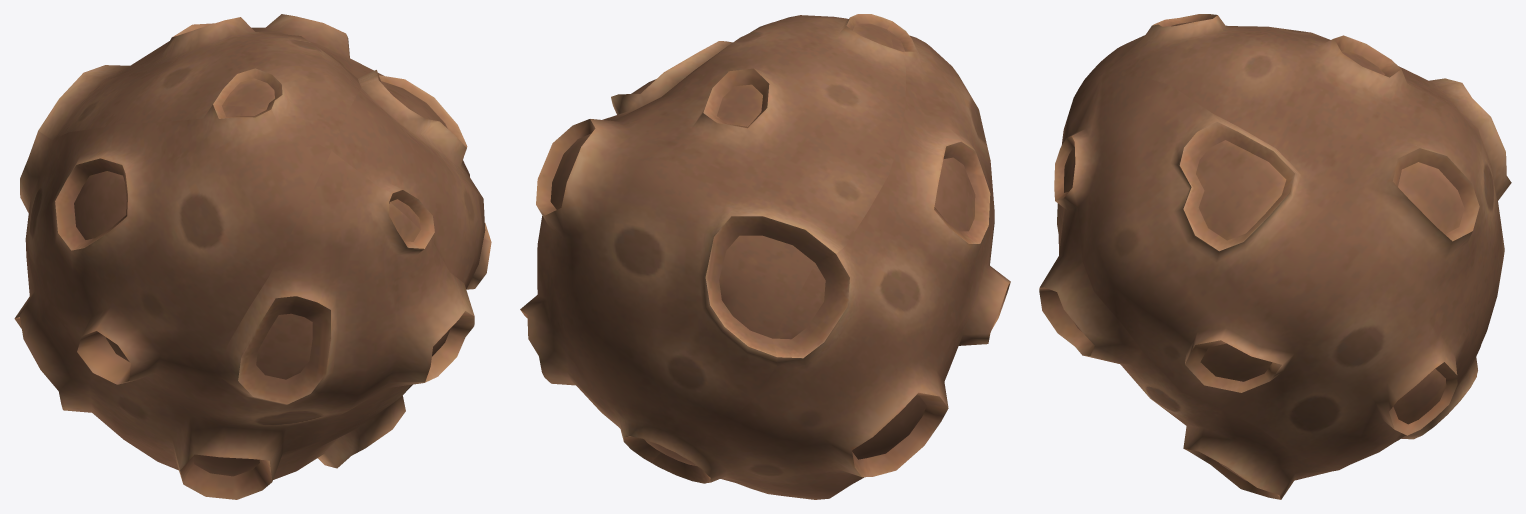
The model's file is Space_Meteor.fbx.
3 renders of one model, left to right at view 1: azimuth 30°, elevation 25°; view 2: azimuth 150°, elevation 25°; view 3: azimuth 270°, elevation 25°, orthographic. The views are drawn at different scales.
Visible parts, largest first — view 1: Space_Meteor; view 2: Space_Meteor; view 3: Space_Meteor.
Part boxes in pixels (left/top/right/bottom): Space_Meteor: left=14, top=14, right=491, bottom=499; Space_Meteor: left=520, top=14, right=1010, bottom=499; Space_Meteor: left=1039, top=14, right=1511, bottom=499.
Bounding box in the file's own units: 1.53 × 1.61 × 1.59.
1 material, 1 textured.
